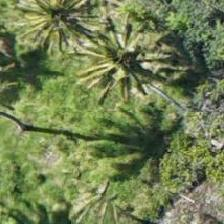coconut_tree: (80, 6, 170, 96), (6, 0, 96, 54)
